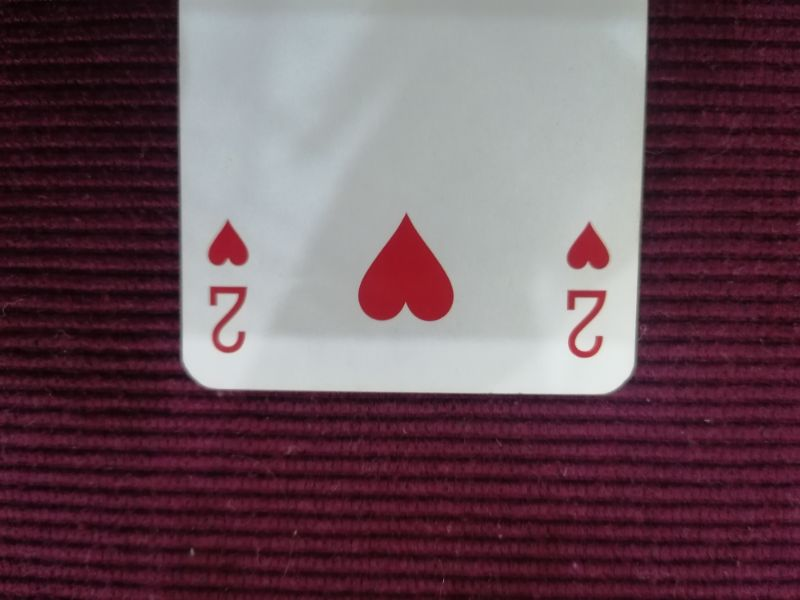2h: (559, 217, 612, 363), (200, 214, 253, 356)
